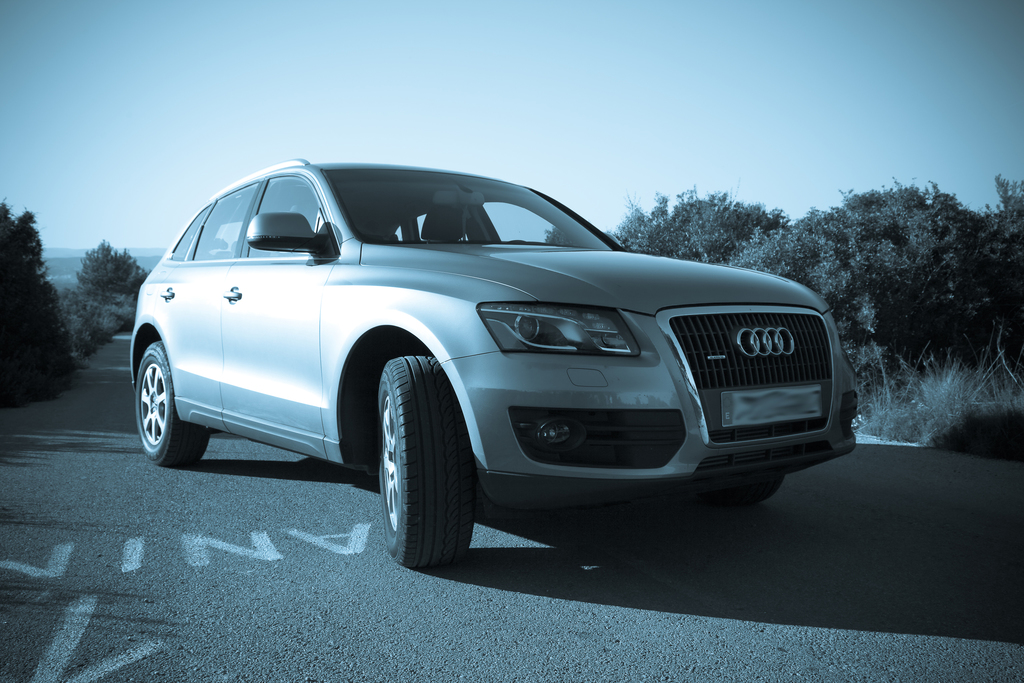Car: (128, 156, 857, 569)
